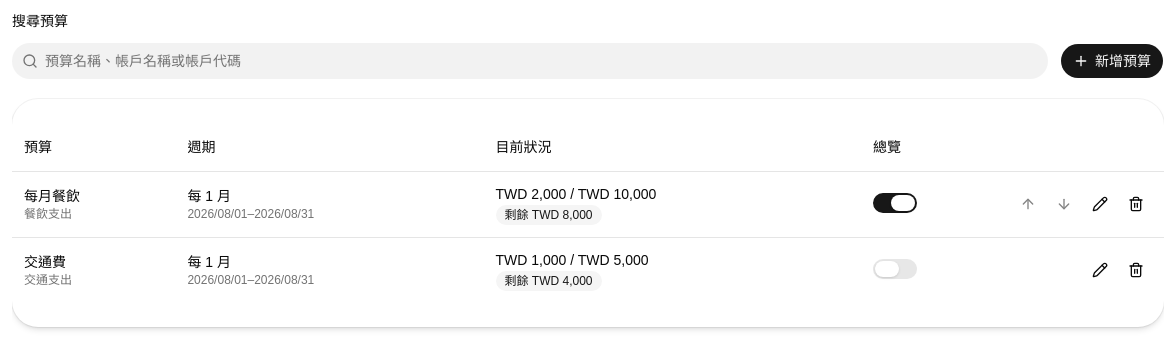
Scenario: budget search › filters budgets by budget name, account name, and account key
In the field labelled "搜尋預算": {"x": 530, "y": 61} [12,43,1048,79], type "expense.food"
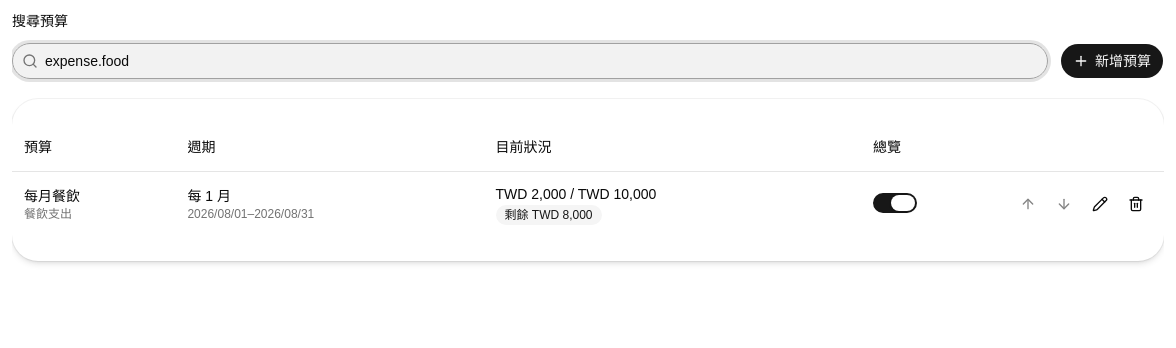
Expected: the link "交通費" is gone
Replace the text in the field labelled "搜尋預算" with "交通支出": {"x": 530, "y": 61} [12,43,1048,79]
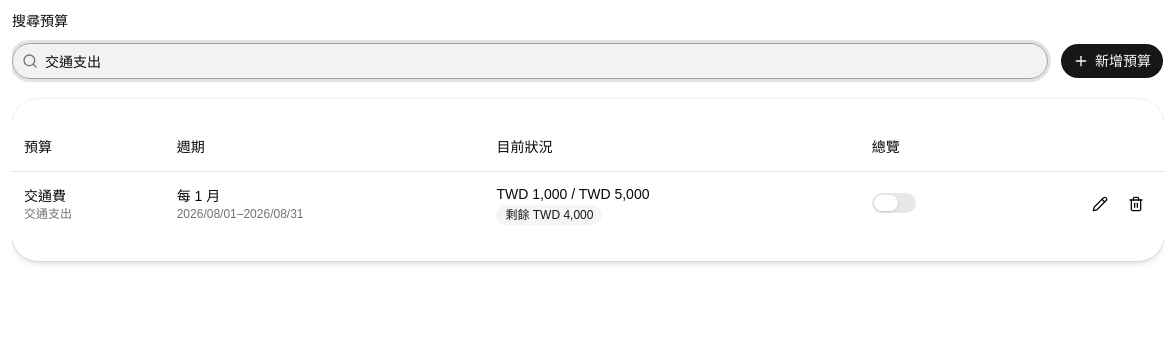
Expected: the link "每月餐飲" is gone
Replace the text in the field labelled "搜尋預算" with "不存在": {"x": 530, "y": 61} [12,43,1048,79]
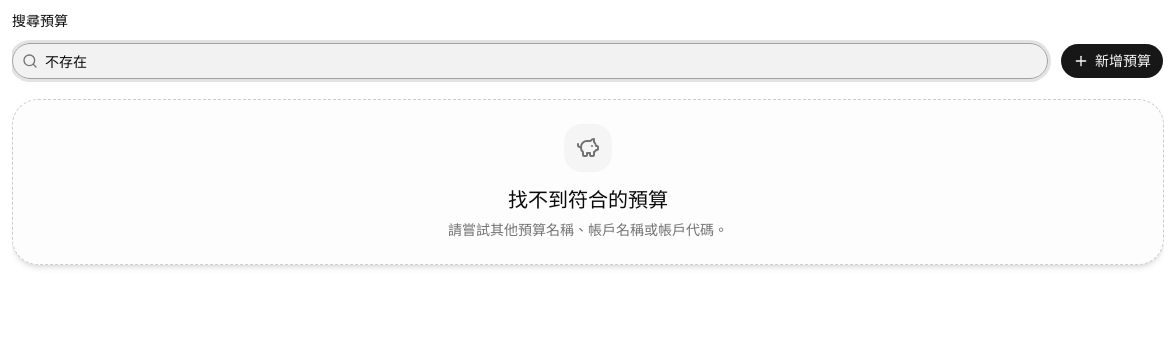
Expected: the text "找不到符合的預算" is shown, [508,186,668,214]
